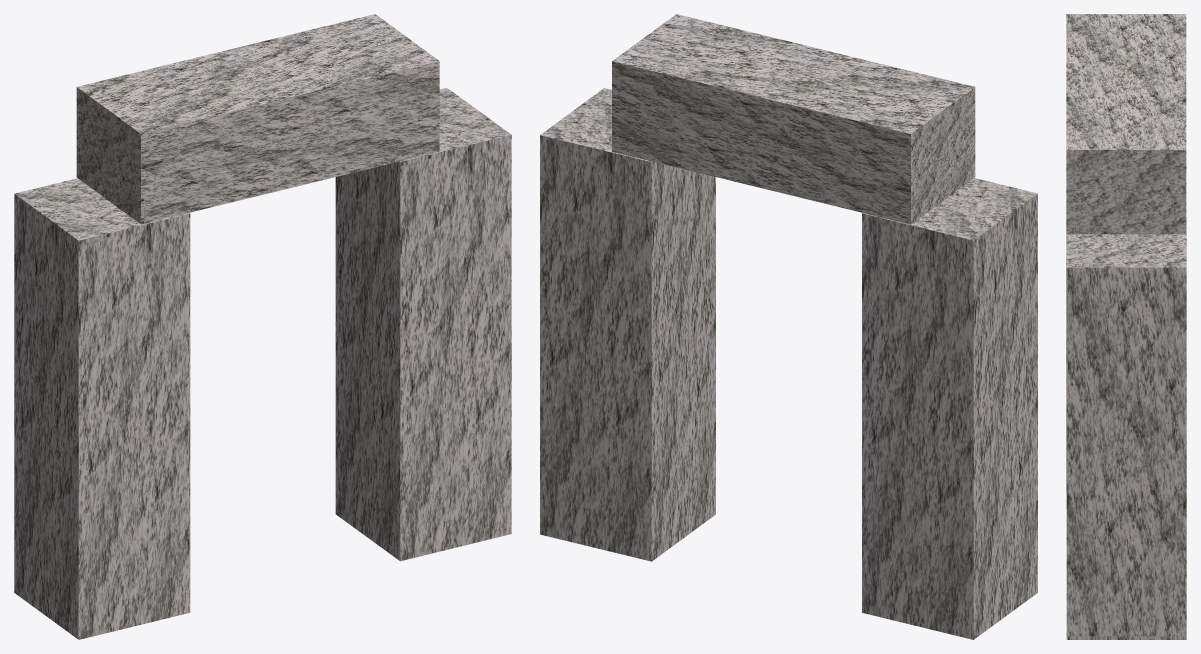
File: stone_tree.obj
3 renders of one model, left to right at view 1: azimuth 30°, elevation 25°; view 2: azimuth 150°, elevation 25°; view 3: azimuth 270°, elevation 25°, orthographic. The views are drawn at different scales.
Parts seen in each view (by area): view 1: SM_MERGED_Plane6_3.001_SM_MERGED_Plane6.001; view 2: SM_MERGED_Plane6_3.001_SM_MERGED_Plane6.001; view 3: SM_MERGED_Plane6_3.001_SM_MERGED_Plane6.001.
Boxes of the visible parts, x1,y1,x2,y2 form: SM_MERGED_Plane6_3.001_SM_MERGED_Plane6.001: (14,14,511,639); SM_MERGED_Plane6_3.001_SM_MERGED_Plane6.001: (540,14,1037,639); SM_MERGED_Plane6_3.001_SM_MERGED_Plane6.001: (1066,14,1186,639).
Size of the model in its own units: 9.77 by 10.57 by 2.53.
